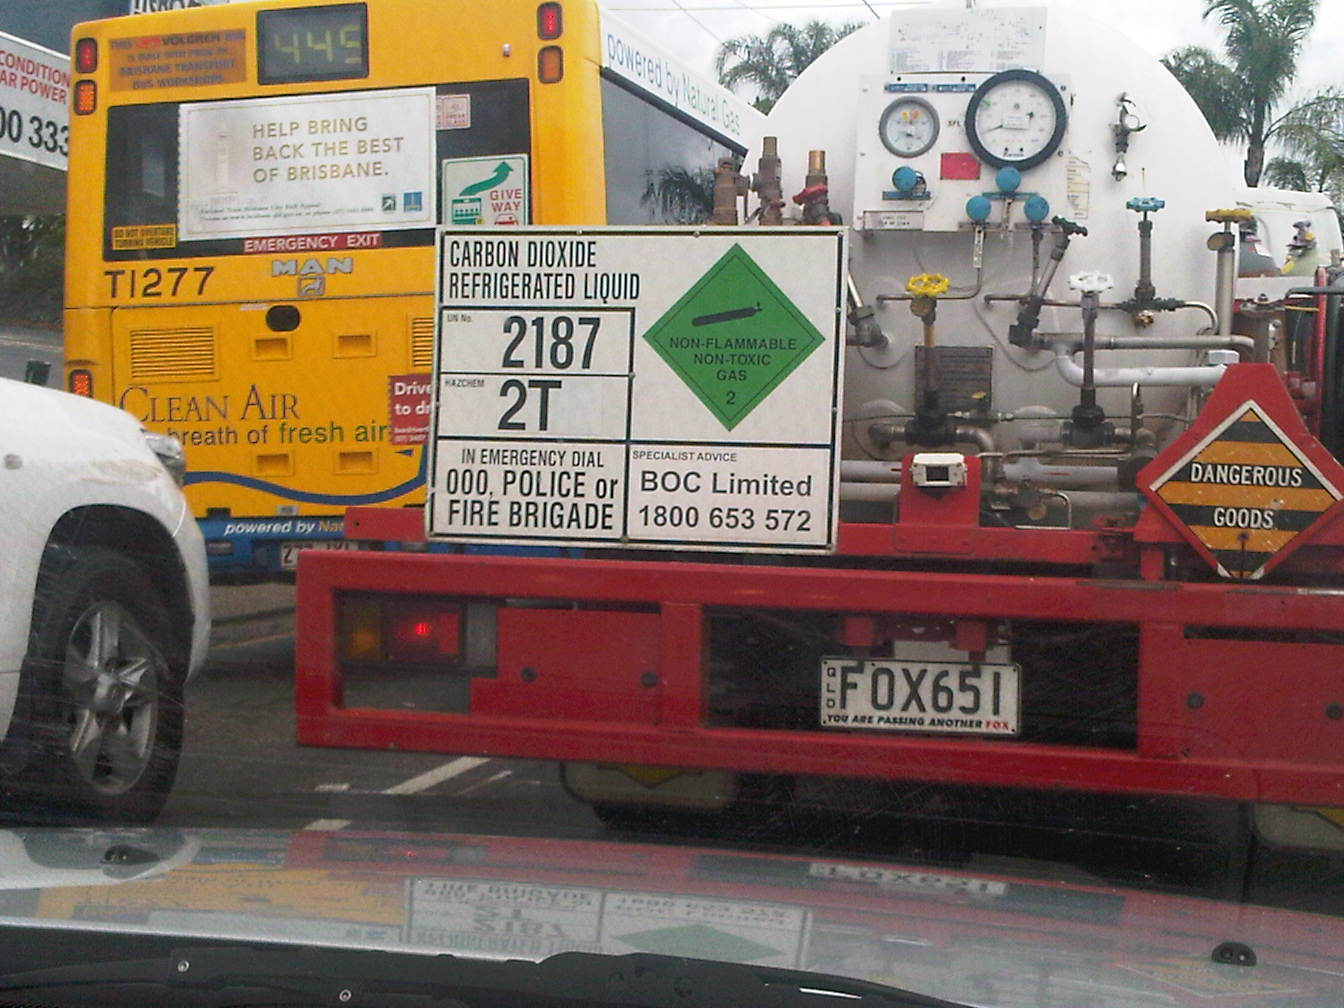NonFlammableGas: (643, 245, 827, 431)
